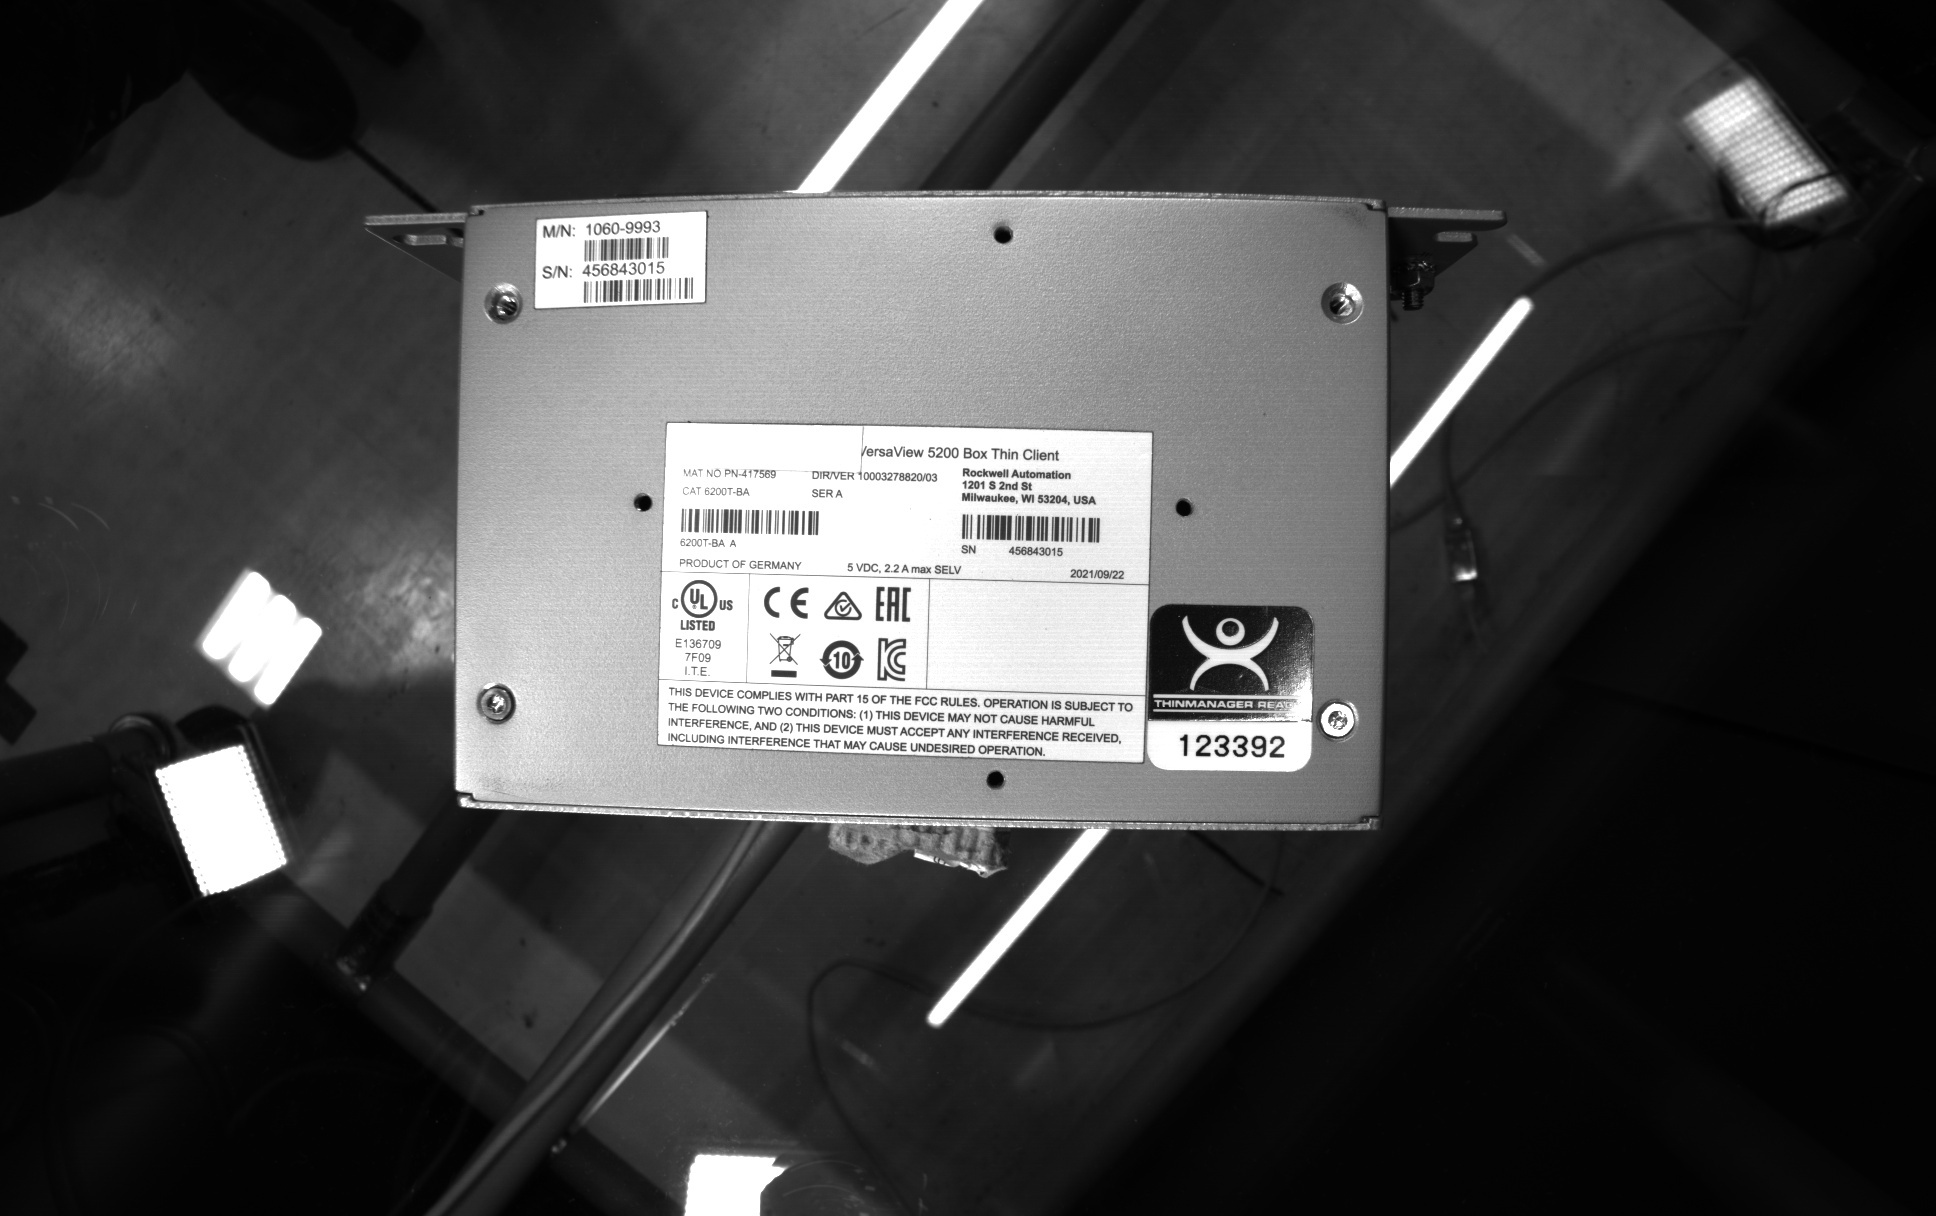Barcode: (672, 502, 825, 542), (954, 509, 1107, 549), (573, 273, 699, 305), (574, 230, 675, 266)
CamTop: (436, 181, 1411, 859)
Label_Seriennummer: (643, 409, 1167, 776)
Loch: (1313, 275, 1370, 328), (480, 277, 530, 331)
Loch_Montage: (618, 474, 658, 521), (974, 761, 1018, 800), (982, 212, 1023, 254), (1166, 488, 1203, 530)
Schraube: (471, 677, 523, 733), (1317, 692, 1367, 747)
